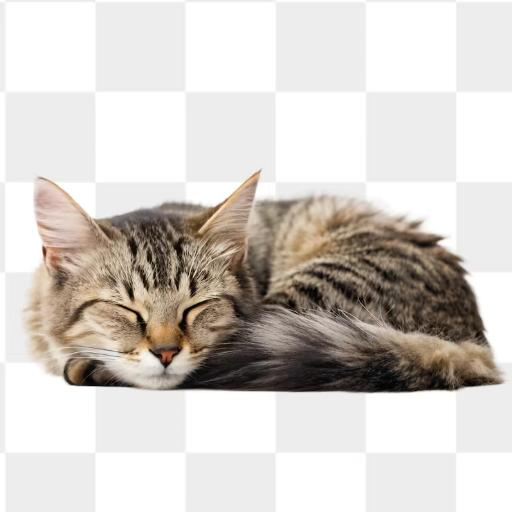cat_sleeping: (25, 172, 502, 392)
